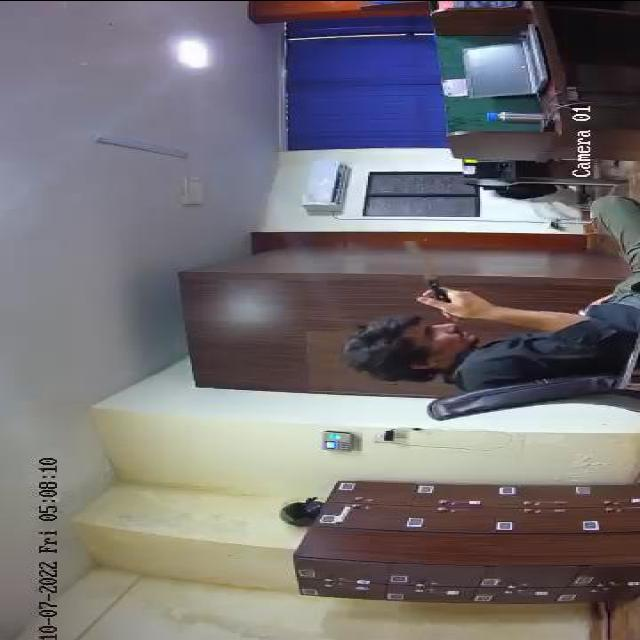Sharp-Object: (400, 238, 452, 307)
